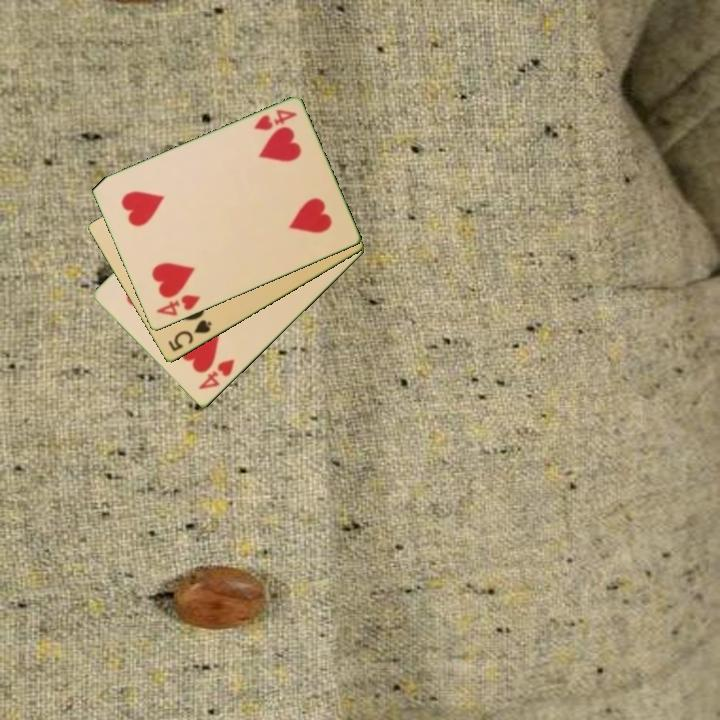4h: (195, 356, 238, 393), (152, 291, 203, 319), (250, 106, 300, 134)
5s: (164, 316, 215, 355)
